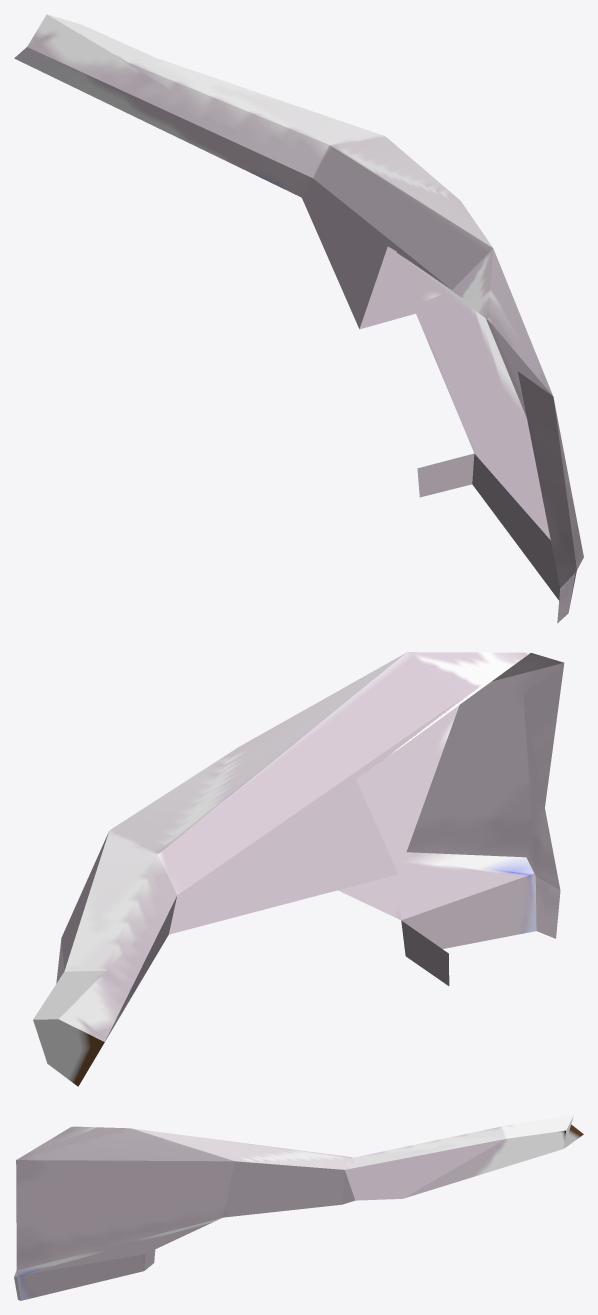
File: player_arm1.obj
3 views of the same model, one above another, from view 1: azimuth 30°, elevation 25°; view 2: azimuth 150°, elevation 25°; view 3: azimuth 270°, elevation 25° (orthographic). The views are drawn at different scales.
Visible parts, largest first — view 1: Cube.001; view 2: Cube.001; view 3: Cube.001.
Part boxes in pixels (bbox=[...]): Cube.001: bbox=[14, 14, 583, 623]; Cube.001: bbox=[33, 652, 564, 1086]; Cube.001: bbox=[14, 1115, 583, 1300].
Bounding box in the file's own units: 0.3679 × 0.594 × 1.7.
